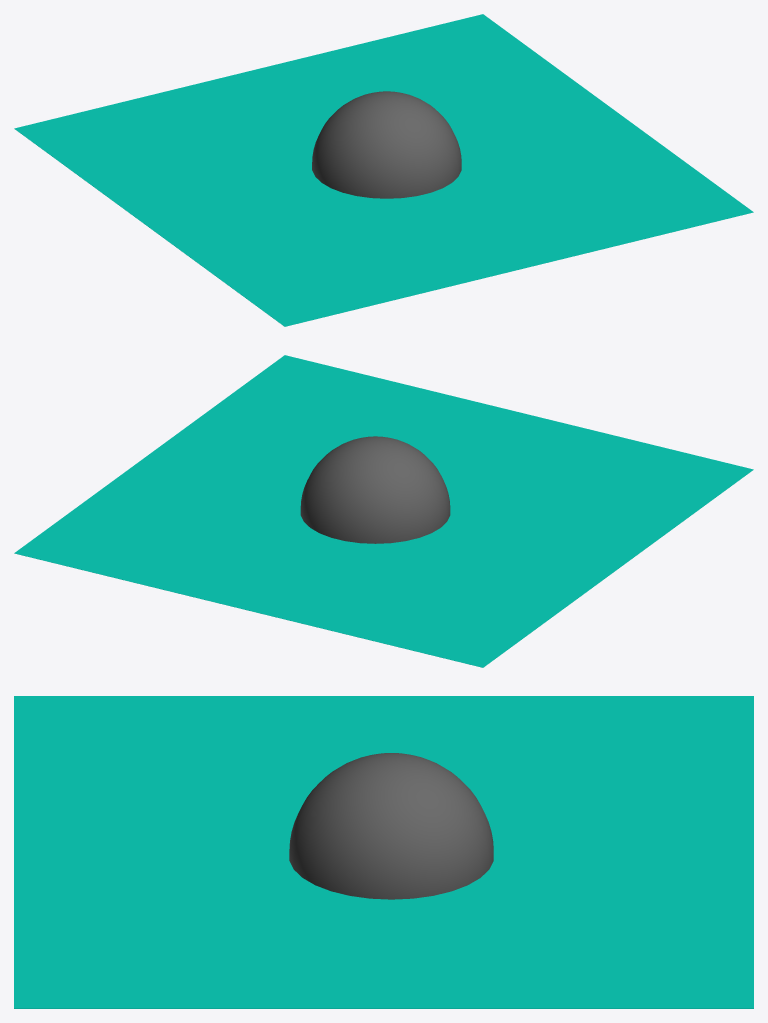
File: placeble.glb
The picture shows the model from 3 angles, top to bottom: view 1: azimuth 30°, elevation 25°; view 2: azimuth 150°, elevation 25°; view 3: azimuth 270°, elevation 25°; orthographic projection. The views are drawn at different scales.
Parts seen in each view (by area): view 1: Cube, Sphere; view 2: Cube, Sphere; view 3: Cube, Sphere.
Part boxes in pixels (x1=…): Cube: x1=14, y1=14, x2=753, y2=326; Sphere: x1=312, y1=91, x2=461, y2=198; Cube: x1=14, y1=355, x2=753, y2=667; Sphere: x1=300, y1=436, x2=450, y2=543; Cube: x1=14, y1=696, x2=753, y2=1008; Sphere: x1=289, y1=753, x2=493, y2=899.
Size of the model in its own units: 18 by 5 by 18.
